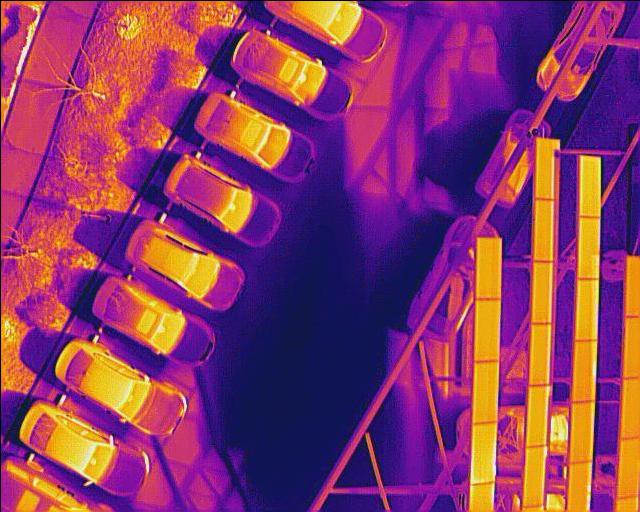No-Anomaly: (471, 358, 498, 428), (471, 295, 498, 364), (530, 197, 556, 264), (474, 236, 500, 301), (527, 319, 552, 386), (528, 259, 553, 325), (525, 384, 550, 449), (522, 443, 546, 508), (615, 437, 640, 498), (570, 398, 593, 464), (576, 215, 599, 278), (578, 154, 600, 217), (532, 137, 553, 198)
Unclassified: (469, 419, 497, 486), (573, 276, 598, 342), (571, 339, 596, 404), (568, 459, 591, 512)
